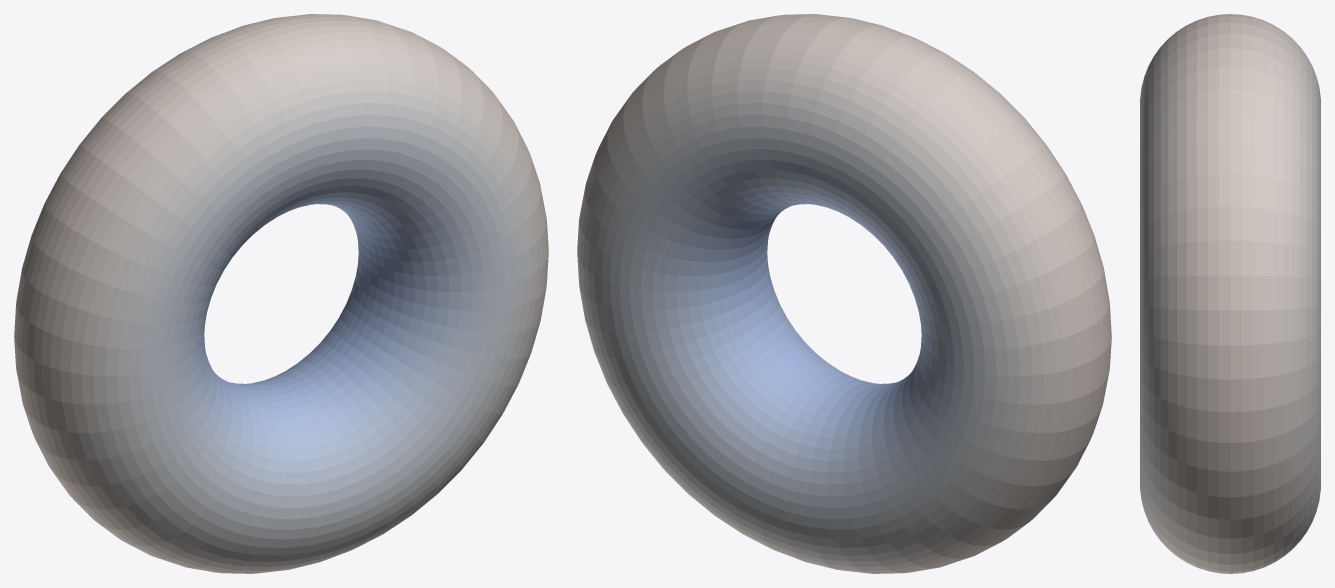
3 views of the same model, side by side, from view 1: azimuth 30°, elevation 25°; view 2: azimuth 150°, elevation 25°; view 3: azimuth 270°, elevation 25° (orthographic). The views are drawn at different scales.
Parts seen in each view (by area): view 1: world; view 2: world; view 3: world.
Boxes of the visible parts, x1=… form: world: x1=14, y1=14, x2=548, y2=573; world: x1=577, y1=14, x2=1111, y2=573; world: x1=1140, y1=14, x2=1320, y2=573.
Size of the model in its own units: 22.67 by 22.62 by 7.32.
